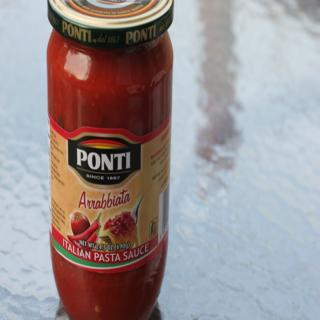Tomato: (71, 209, 90, 236)
